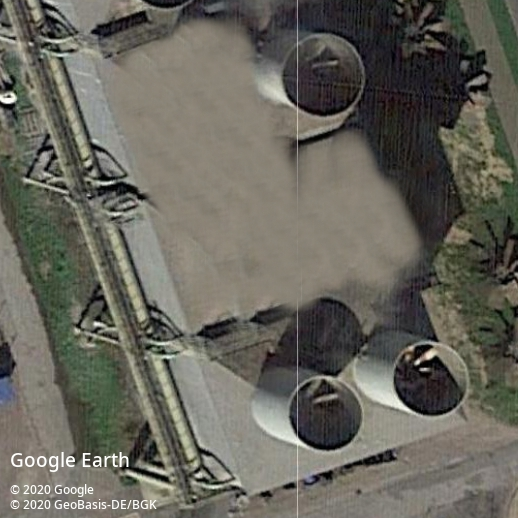Vent: (280, 33, 366, 119), (392, 341, 470, 418), (288, 376, 364, 453)
